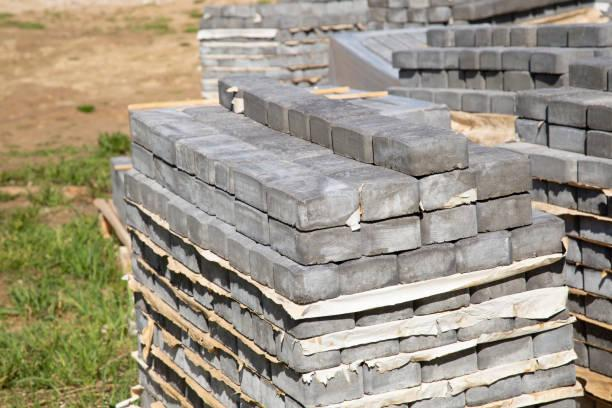Bricks: (179, 132, 273, 190), (130, 107, 218, 164), (176, 346, 240, 406), (230, 159, 302, 206), (379, 117, 457, 155), (181, 302, 236, 354), (232, 131, 326, 159), (189, 101, 261, 137), (338, 161, 413, 195), (125, 210, 174, 255), (169, 170, 215, 217), (274, 173, 355, 198), (314, 101, 376, 131), (509, 226, 566, 257), (269, 361, 310, 404), (338, 113, 398, 142), (360, 191, 419, 219), (305, 236, 366, 262), (126, 177, 164, 218), (460, 237, 508, 269), (310, 372, 364, 400), (133, 148, 169, 190), (299, 198, 354, 225), (425, 176, 473, 206), (369, 227, 424, 253), (401, 251, 458, 276), (239, 375, 283, 407), (371, 138, 408, 176), (475, 341, 531, 366), (342, 262, 397, 287), (479, 167, 528, 194), (475, 203, 531, 226), (269, 225, 300, 266), (292, 154, 355, 174), (193, 289, 234, 319), (281, 318, 356, 334), (329, 127, 363, 162), (424, 357, 478, 379), (549, 89, 611, 108), (296, 270, 338, 298), (426, 214, 476, 237), (266, 187, 300, 220), (532, 329, 575, 355), (232, 207, 264, 241), (573, 159, 609, 189), (575, 243, 609, 274), (370, 367, 419, 388), (291, 346, 335, 368), (461, 318, 513, 336), (174, 243, 204, 272), (474, 284, 528, 300), (422, 150, 463, 171), (464, 385, 521, 400), (548, 102, 585, 125), (403, 331, 453, 348), (235, 316, 269, 341), (203, 265, 232, 292), (234, 283, 260, 313), (528, 157, 563, 179), (576, 227, 611, 249), (365, 310, 416, 325), (229, 240, 250, 275), (590, 346, 611, 381), (524, 375, 576, 389), (168, 205, 190, 238), (516, 122, 549, 143), (571, 28, 609, 46), (569, 66, 603, 86), (250, 253, 271, 285), (551, 132, 586, 150), (520, 91, 546, 115), (287, 117, 314, 140), (580, 273, 607, 296), (266, 105, 288, 133), (214, 193, 235, 222), (208, 230, 228, 260), (589, 296, 611, 323), (344, 349, 403, 359), (273, 262, 290, 296), (312, 119, 332, 147), (247, 97, 269, 121), (185, 222, 204, 247), (588, 133, 612, 152), (533, 277, 562, 292), (491, 93, 515, 111), (506, 74, 533, 90), (587, 109, 609, 128), (464, 92, 485, 111), (434, 92, 460, 107), (418, 55, 445, 69), (508, 32, 531, 48), (423, 301, 467, 309), (396, 51, 416, 68), (505, 56, 532, 68), (543, 31, 562, 47), (481, 53, 498, 70), (484, 77, 505, 90), (532, 55, 550, 70), (476, 29, 490, 47), (428, 32, 448, 44), (460, 55, 477, 69), (465, 73, 479, 89), (446, 72, 460, 88), (424, 75, 441, 88), (459, 29, 472, 46), (404, 72, 420, 84), (495, 30, 505, 47), (446, 53, 456, 67)
